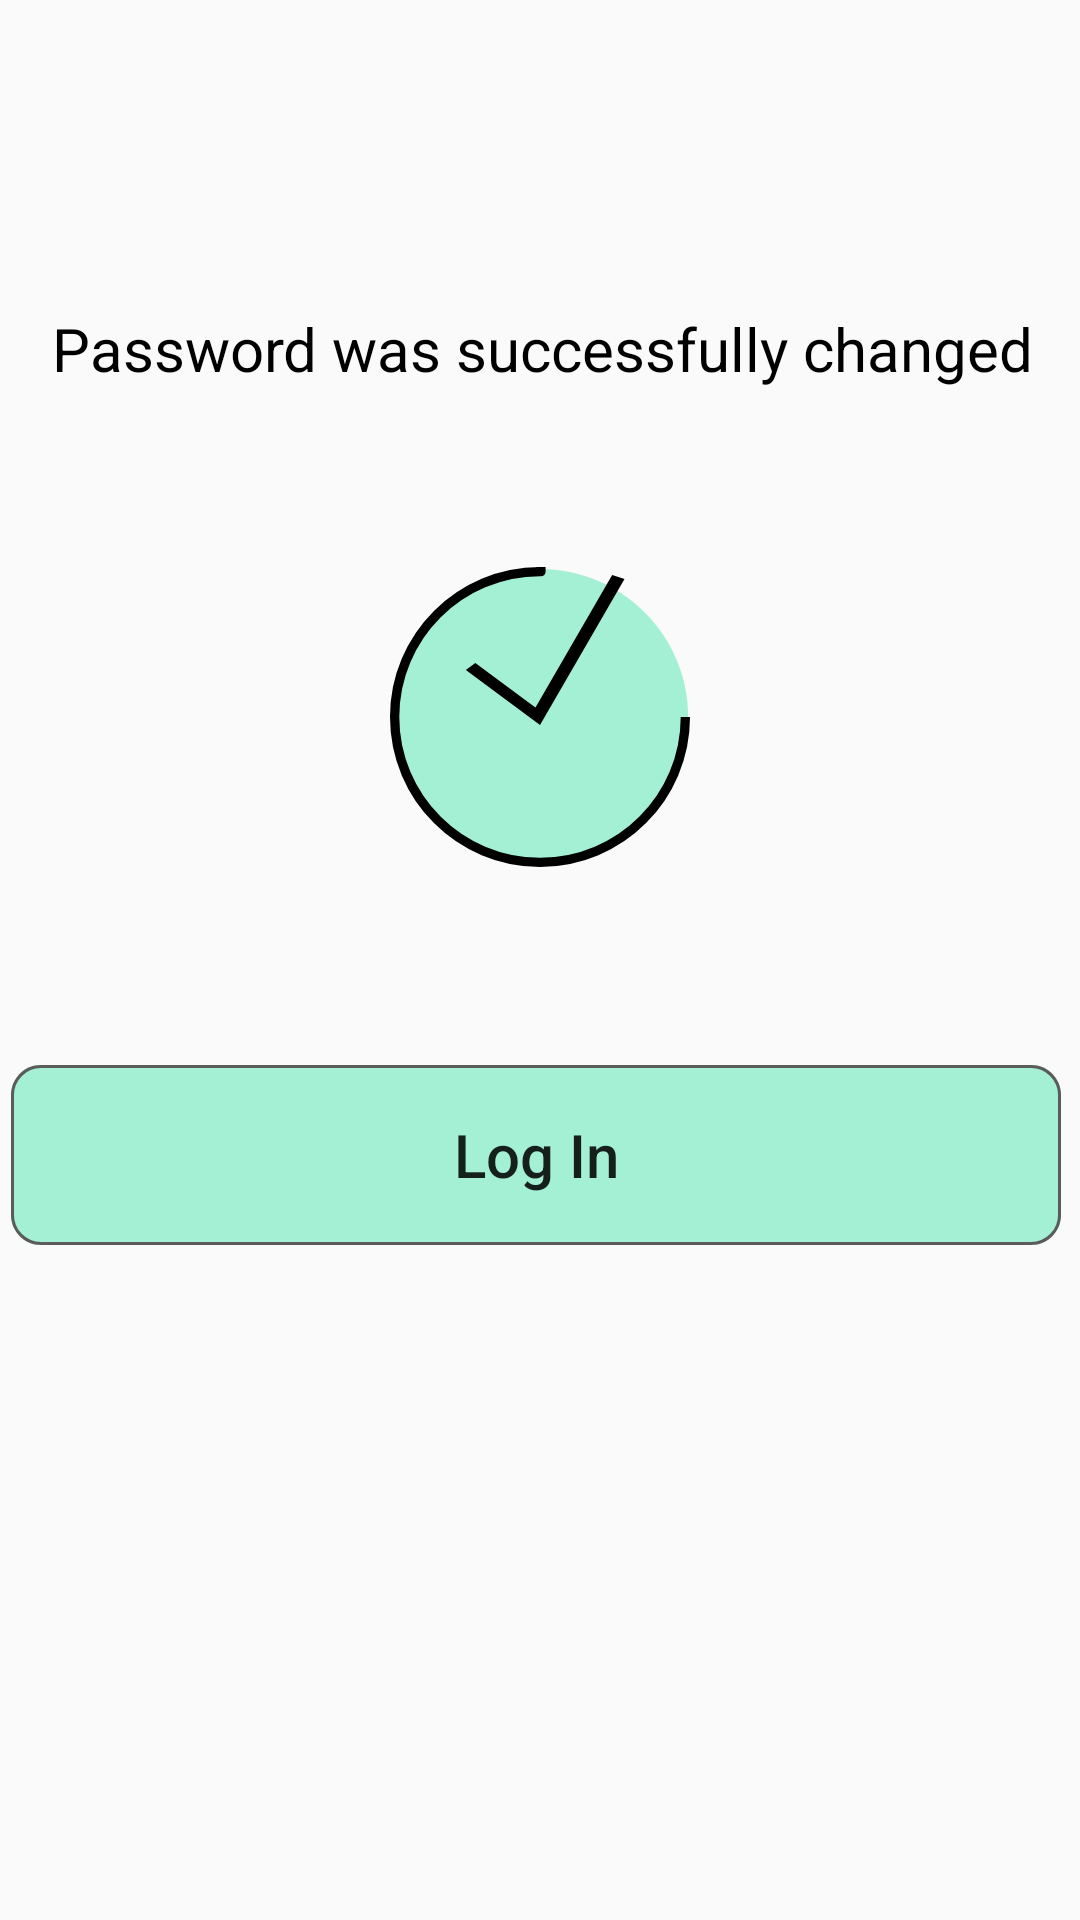

Icons on this 1080w x 1920h Android screen, each with its box as (x1=x1, y1=y1, x2=x2, y2=y2):
check mark: (x1=390, y1=567, x2=690, y2=867)
